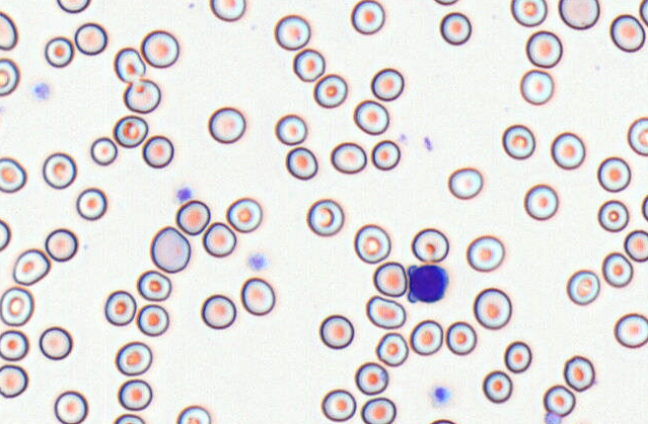LYM: (408, 265, 448, 304)
PLT: (31, 81, 52, 101), (248, 252, 268, 272), (430, 387, 449, 406), (543, 411, 562, 424), (176, 188, 192, 203)
RBC: (149, 225, 191, 273), (473, 287, 511, 329), (353, 223, 391, 264), (140, 29, 179, 68), (306, 198, 344, 236), (12, 248, 50, 285), (466, 235, 504, 272), (207, 106, 245, 143), (525, 30, 562, 68), (609, 13, 645, 52), (0, 285, 34, 326), (365, 295, 406, 329), (411, 227, 449, 263), (550, 131, 585, 170), (240, 277, 275, 315), (353, 99, 389, 135), (274, 14, 310, 50), (200, 293, 236, 329), (226, 197, 262, 233), (115, 341, 152, 376), (123, 78, 160, 113), (523, 183, 558, 220), (42, 151, 76, 189), (558, 0, 600, 30), (175, 199, 210, 235), (372, 261, 407, 297), (519, 68, 553, 105), (319, 314, 354, 349), (202, 221, 236, 257), (566, 269, 600, 305), (409, 319, 443, 355), (613, 312, 647, 348), (597, 156, 631, 192), (113, 46, 146, 83), (313, 73, 347, 108), (350, 0, 385, 34), (501, 124, 535, 159), (320, 388, 356, 421), (330, 141, 366, 174), (447, 166, 483, 199), (104, 289, 136, 326), (38, 326, 72, 360), (354, 361, 388, 395), (370, 67, 404, 101), (113, 115, 148, 148), (53, 390, 88, 423), (601, 251, 633, 287), (563, 355, 595, 391), (44, 228, 78, 261), (285, 146, 318, 180), (292, 48, 325, 82), (375, 332, 408, 366), (117, 379, 152, 411), (136, 269, 171, 301), (136, 303, 169, 336), (74, 22, 107, 55), (142, 134, 174, 168), (439, 11, 471, 45), (75, 187, 107, 220), (274, 113, 307, 145), (597, 199, 629, 232), (445, 321, 476, 355), (543, 384, 575, 416), (510, 0, 547, 27), (482, 370, 512, 403), (0, 156, 26, 193), (0, 364, 28, 398), (360, 397, 396, 423), (44, 36, 74, 67), (0, 329, 29, 361), (503, 340, 531, 373), (371, 139, 400, 170), (90, 136, 117, 166), (627, 116, 647, 156), (623, 229, 647, 262), (209, 0, 246, 21), (0, 57, 19, 96), (0, 10, 18, 50), (176, 404, 211, 423), (56, 0, 91, 13), (0, 218, 11, 251), (113, 413, 145, 423), (639, 0, 648, 26), (641, 193, 648, 221), (433, 0, 459, 6), (429, 418, 456, 423)
